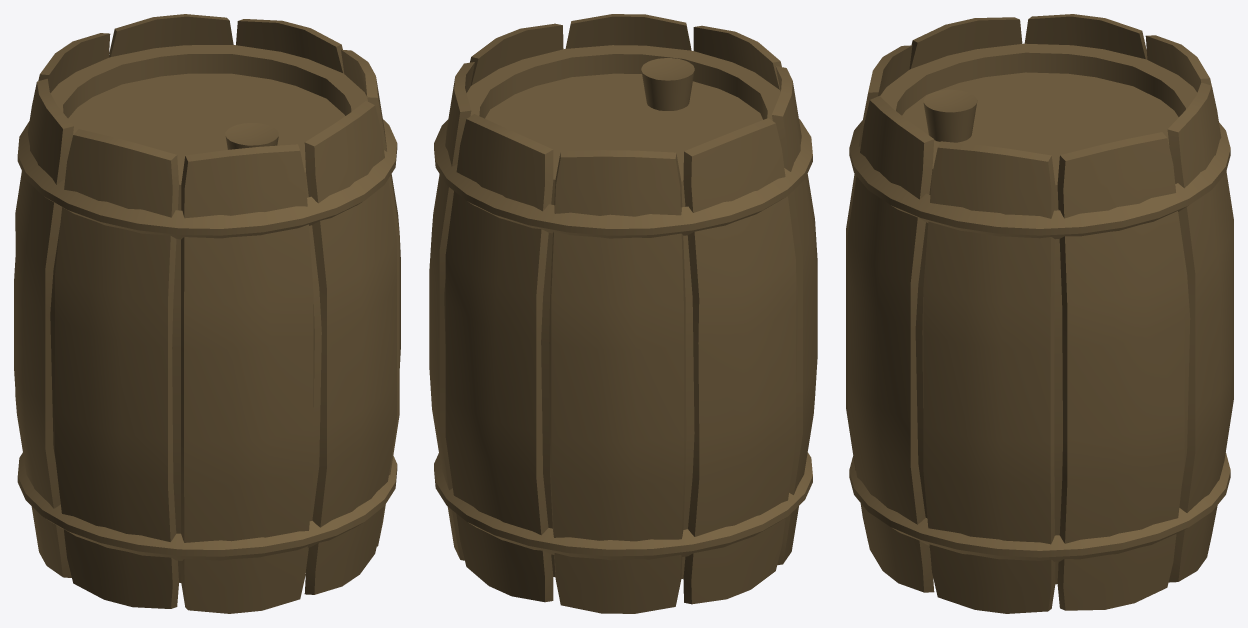
Rendered from Barrel.fbx.
3 views of the same model, side by side, from view 1: azimuth 30°, elevation 25°; view 2: azimuth 150°, elevation 25°; view 3: azimuth 270°, elevation 25° (orthographic).
Parts seen in each view (by area): view 1: Barrel; view 2: Barrel; view 3: Barrel.
Boxes of the visible parts, left/top/right/bottom form: Barrel: left=14, top=14, right=400, bottom=613; Barrel: left=429, top=14, right=817, bottom=613; Barrel: left=846, top=14, right=1233, bottom=613.
Bounding box in the file's own units: 135 × 178 × 135.
